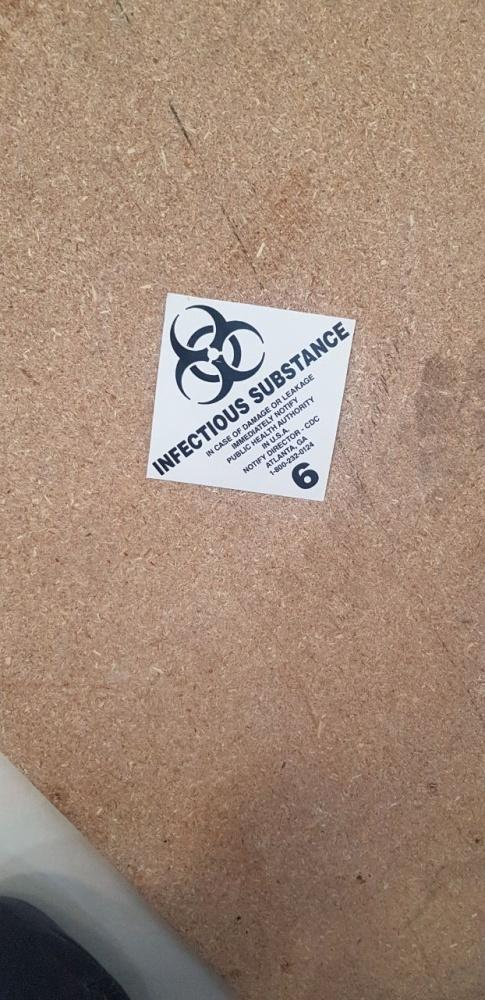infectious-substance: (150, 287, 358, 505)
